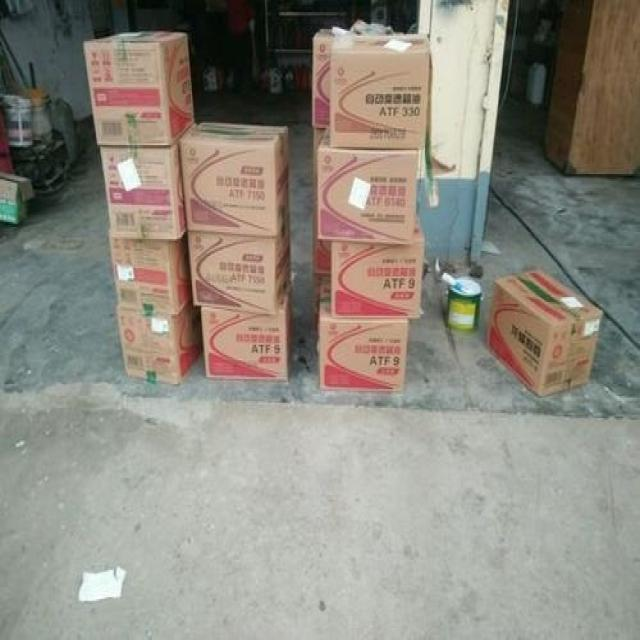box: (483, 268, 603, 398), (83, 31, 196, 145), (187, 195, 292, 316), (179, 121, 289, 236), (312, 128, 419, 246), (326, 32, 426, 150), (314, 273, 410, 393), (332, 208, 425, 316), (200, 278, 294, 379), (97, 138, 187, 241), (118, 297, 202, 386), (110, 230, 192, 316), (312, 29, 332, 130), (312, 203, 333, 273)
